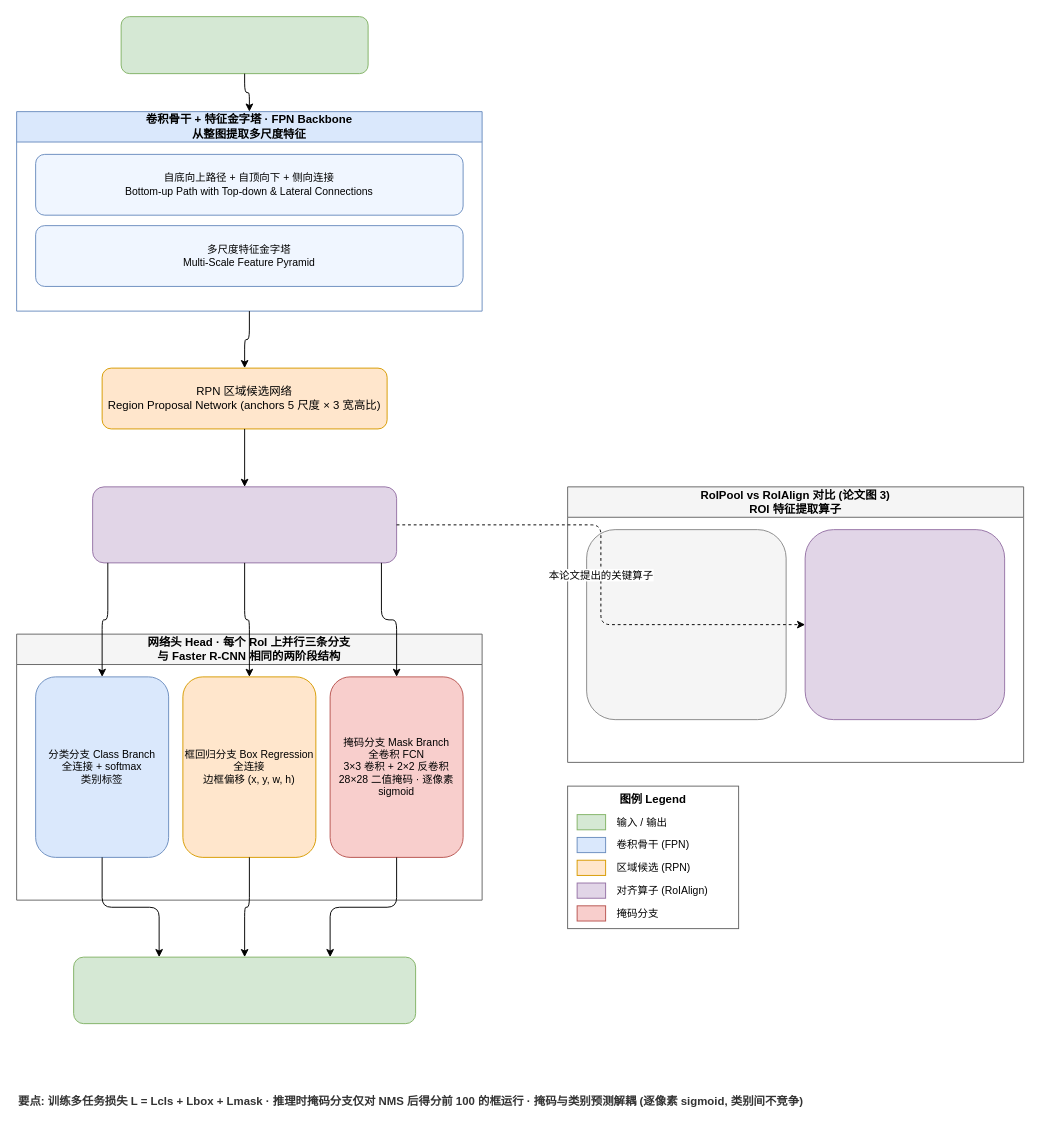
Some shapes in this 1040 by 1139 pixel diagram are drawn without their labels. The box of each missing label's shape, as (x1, y1, x2, y2) in pixels:
RoIAlign (本论文) 不取整 x/16 每 bin 均匀采 4 点 双线性插值 + max/avg 聚合 → 像素级精确对齐: (804, 529, 1005, 720)
RoIAlign 兴趣区域对齐 不取整 x/16 · 每 bin 4 点双线性插值 (关键算子): (92, 486, 397, 563)
RoIPool (旧算子) 坐标取整 [x/16] 边界取整 + 分箱取整 → 特征与输入错位 (分类健壮, 掩码受损): (586, 529, 786, 720)
输入图像 Input Image: (120, 16, 368, 74)
输出 Outputs 检测: 类别 + 边框 (经 NMS) 分割: m×m 实例掩码: (73, 956, 416, 1024)
